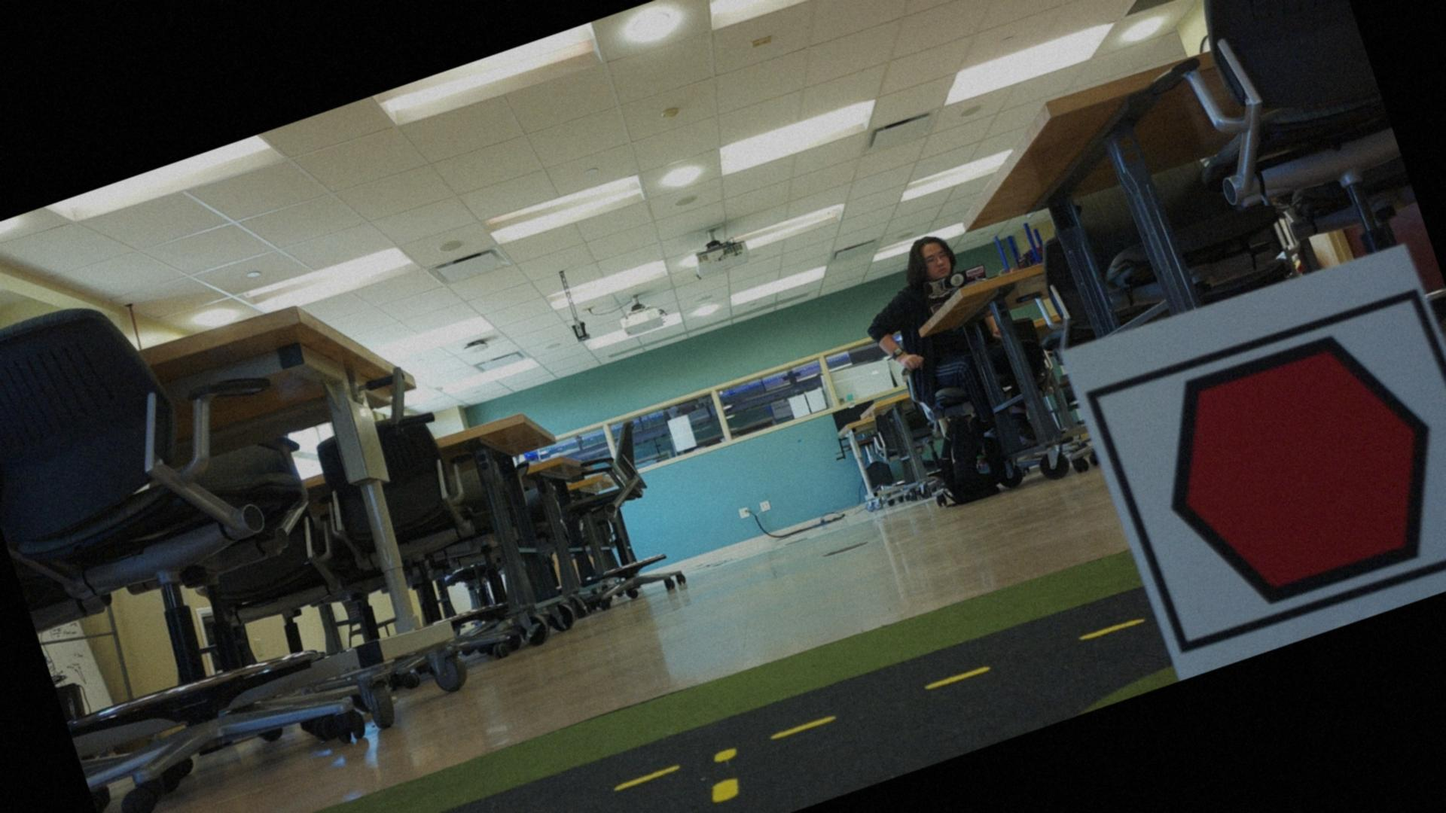stop: (1089, 291, 1445, 656)
yellowline: (139, 601, 1139, 812), (691, 744, 755, 811)
